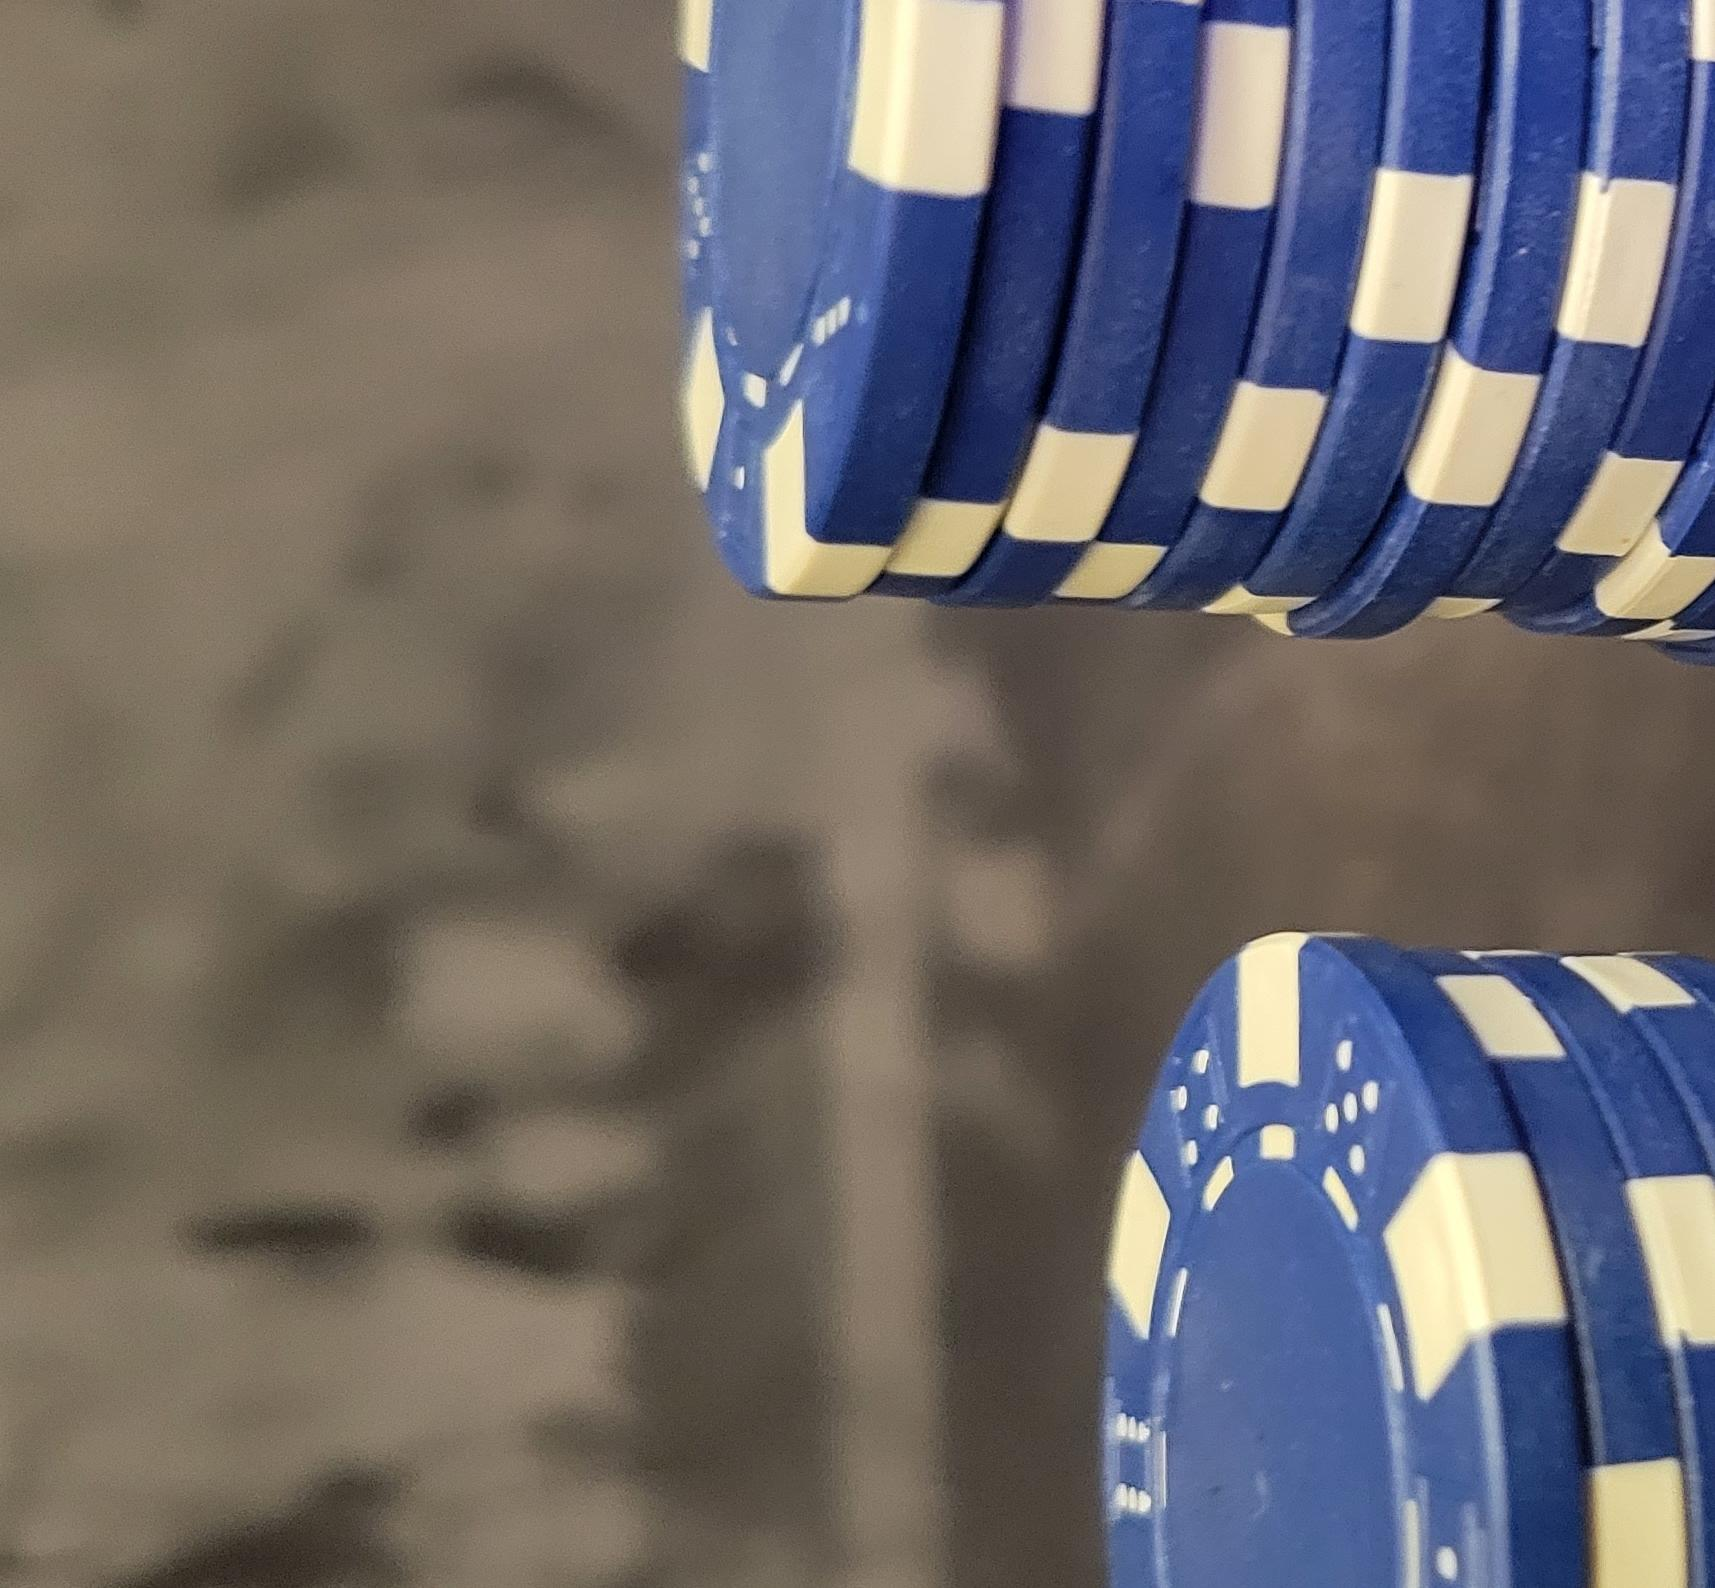Chip: (1, 258, 1253, 1588)
